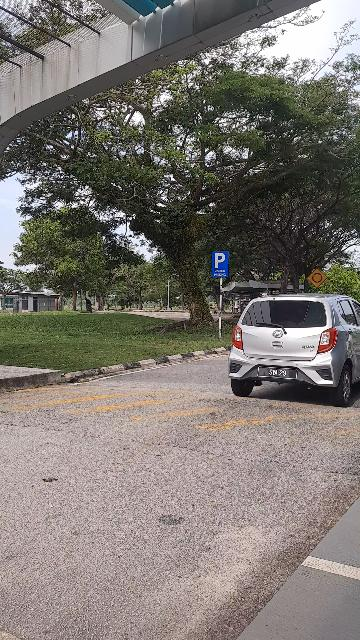car: (228, 290, 360, 403)
